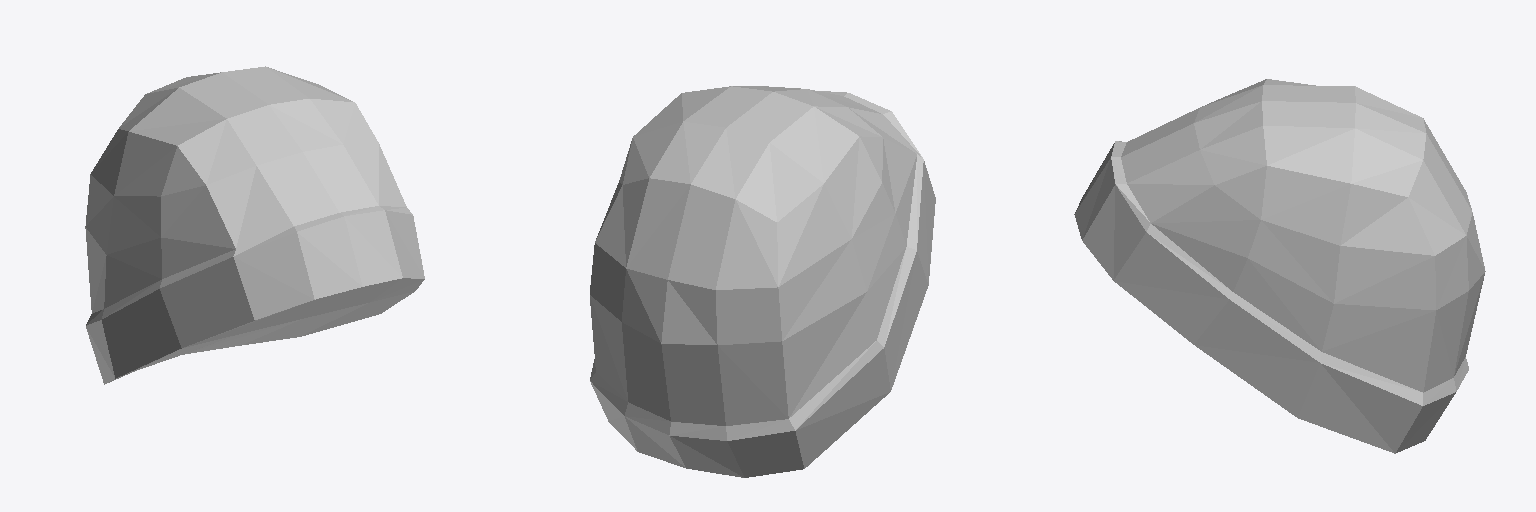
File: rebelbeanie.obj
3 views of the same model, side by side, from view 1: azimuth 30°, elevation 25°; view 2: azimuth 150°, elevation 25°; view 3: azimuth 270°, elevation 25° (orthographic).
Visible parts, largest first — view 1: male_07.male_07_reference.smd.mesh_3; view 2: male_07.male_07_reference.smd.mesh_3; view 3: male_07.male_07_reference.smd.mesh_3.
Part boxes in pixels (x1,y1,x2,y2): male_07.male_07_reference.smd.mesh_3: (85, 66, 424, 384); male_07.male_07_reference.smd.mesh_3: (590, 86, 935, 477); male_07.male_07_reference.smd.mesh_3: (1074, 79, 1485, 453).
Bounding box in the file's own units: 6.85 × 7.58 × 9.